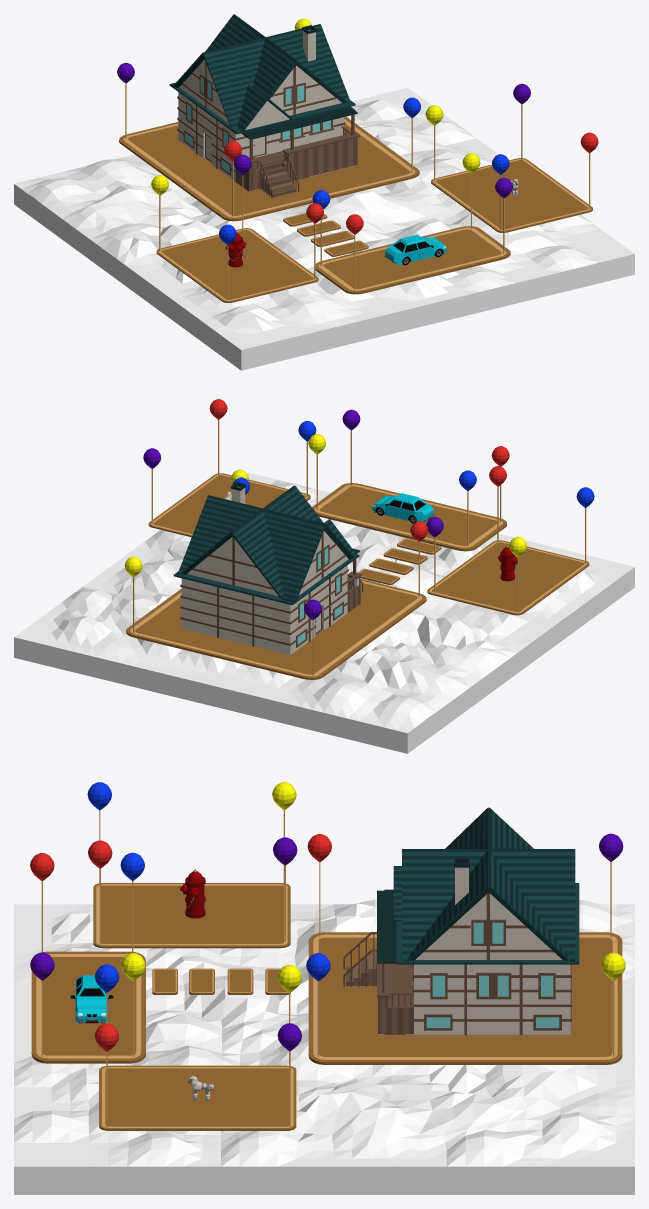
The picture shows the model from 3 angles, top to bottom: view 1: azimuth 30°, elevation 25°; view 2: azimuth 150°, elevation 25°; view 3: azimuth 270°, elevation 25°; orthographic projection. The views are drawn at different scales.
Parts seen in each view (by area): view 1: Cube.013, Cube.793, VEHICLES_CAR; view 2: Cube.013, Cube.793, VEHICLES_CAR, OBJRANDOM_FIRE_HYDRANT; view 3: Cube.013, Cube.793, VEHICLES_CAR, OBJRANDOM_FIRE_HYDRANT.
Part boxes in pixels (x1=…): Cube.013: x1=14, y1=18, x2=634, y2=370; Cube.793: x1=169, y1=14, x2=360, y2=198; VEHICLES_CAR: x1=384, y1=234, x2=446, y2=265; Cube.013: x1=14, y1=399, x2=634, y2=753; Cube.793: x1=173, y1=482, x2=363, y2=654; VEHICLES_CAR: x1=372, y1=493, x2=434, y2=523; OBJRANDOM_FIRE_HYDRANT: x1=498, y1=545, x2=517, y2=581; Cube.013: x1=14, y1=782, x2=634, y2=1194; Cube.793: x1=343, y1=807, x2=579, y2=1035; VEHICLES_CAR: x1=70, y1=975, x2=113, y2=1023; OBJRANDOM_FIRE_HYDRANT: x1=180, y1=869, x2=205, y2=918.
Size of the model in its own units: 4000 by 1687 by 4000.
Materials: 29 (2 with a texture image).
